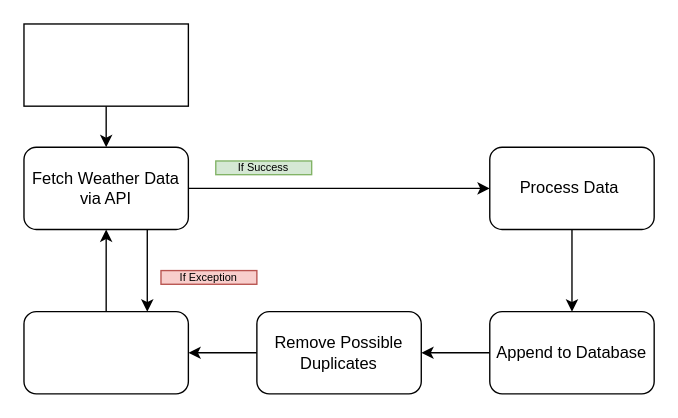
The diagram is 678 pixels wide and 418 high, and some of its shapes have lost their labels. The shapes that lost their labels are listed below. From the top down, each one's centre as x and y in pixels, then its label:
(x=105, y=64): Create Empty Database
(x=105, y=352): Wait for Next Update (20 minutes)
